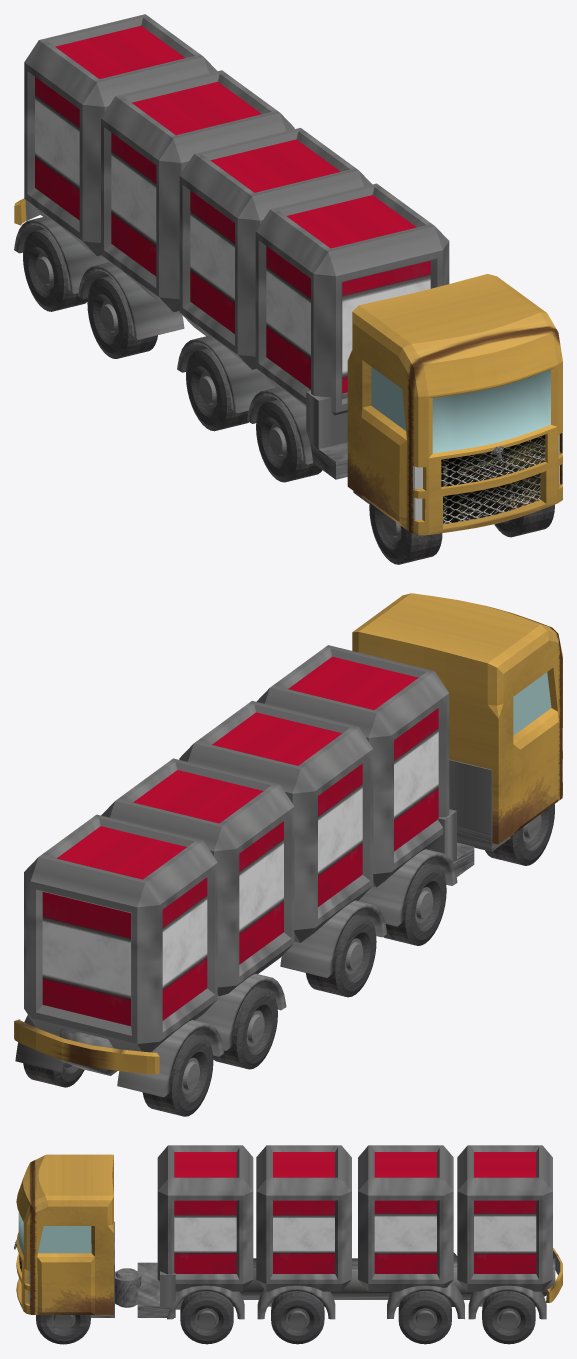
The model's file is Truck 7.fbx.
3 views of the same model, one above another, from view 1: azimuth 30°, elevation 25°; view 2: azimuth 150°, elevation 25°; view 3: azimuth 270°, elevation 25° (orthographic). The views are drawn at different scales.
Visible parts, largest first — view 1: Cylinder; view 2: Cylinder; view 3: Cylinder.
Part boxes in pixels (bbox=[...]): Cylinder: bbox=[14, 14, 562, 564]; Cylinder: bbox=[14, 593, 562, 1116]; Cylinder: bbox=[14, 1145, 562, 1344].
Size of the model in its own units: 539 by 799 by 2491.
